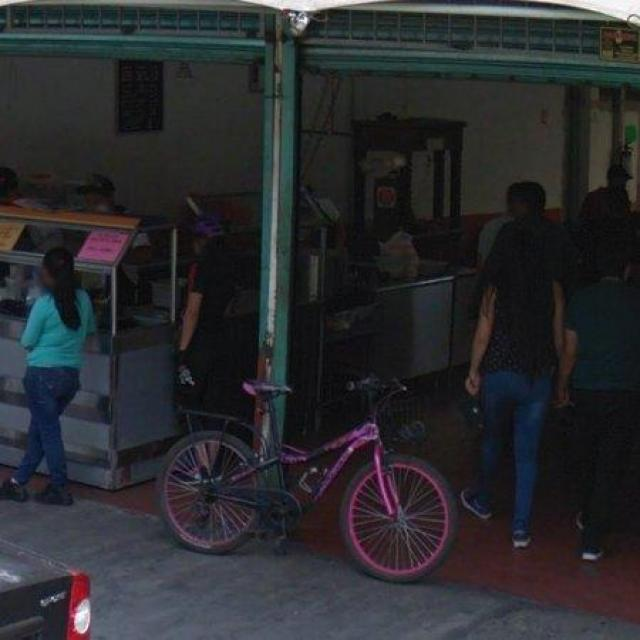bicycle: (159, 382, 458, 584)
